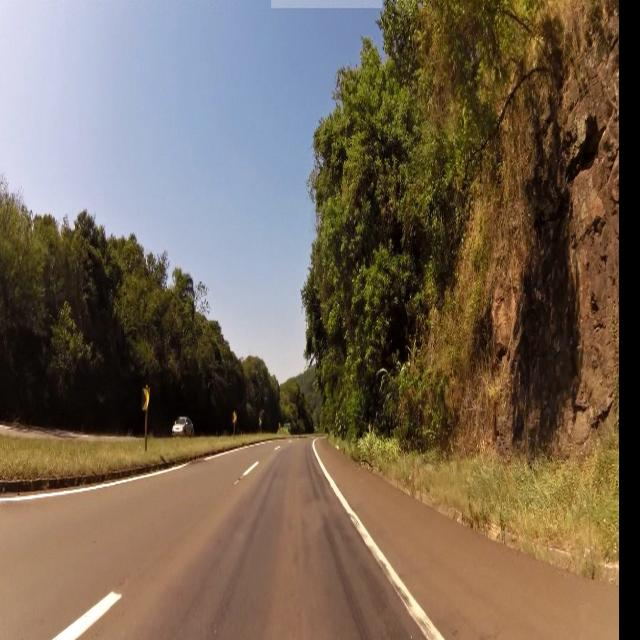Del: (142, 388, 150, 411)
